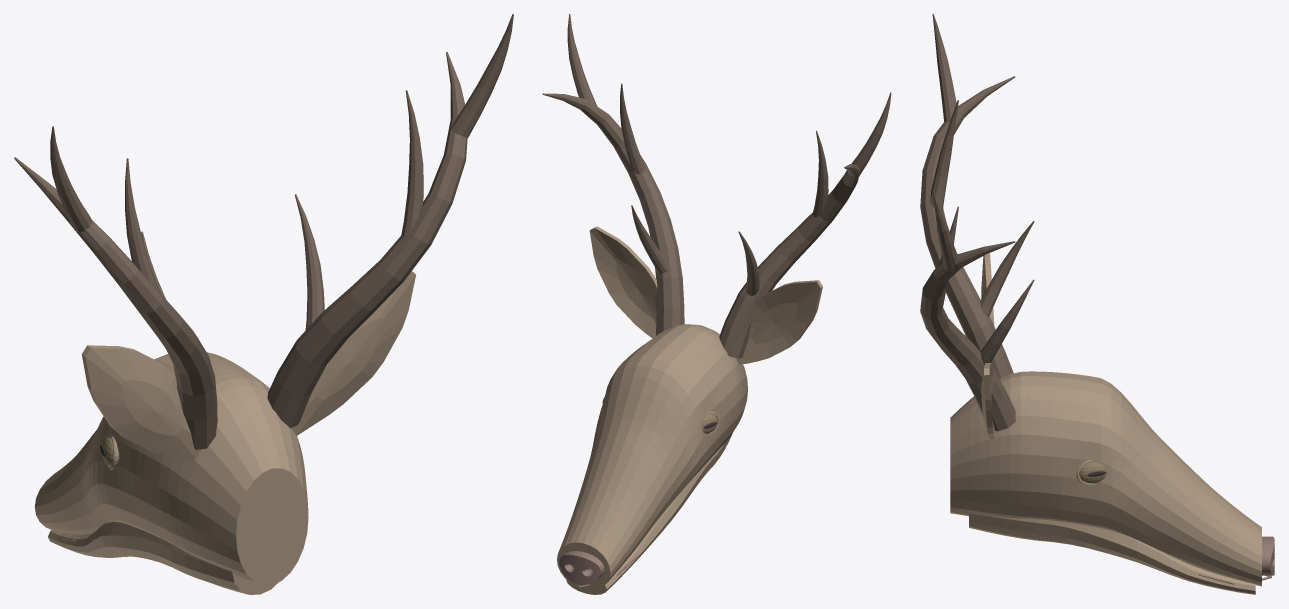
Rendered from stag_head_01.glb.
3 views of the same model, side by side, from view 1: azimuth 30°, elevation 25°; view 2: azimuth 150°, elevation 25°; view 3: azimuth 270°, elevation 25° (orthographic). The views are drawn at different scales.
Parts seen in each view (by area): view 1: CervidCranium, CervidAntlerR, CervidAntlerL, CervidEarL, CervidEarR, CervidJaw; view 2: CervidCranium, CervidAntlerR, CervidAntlerL, CervidEarL, CervidEarR, CervidJaw, CervidNose; view 3: CervidCranium, CervidAntlerL, CervidAntlerR, CervidJaw, CervidEarR, CervidNose.
Boxes of the visible parts, x1,y1,x2,y2 form: CervidCranium: [34, 352, 308, 585]; CervidAntlerR: [267, 14, 513, 428]; CervidAntlerL: [14, 126, 217, 449]; CervidEarL: [81, 345, 200, 459]; CervidEarR: [291, 271, 416, 435]; CervidJaw: [48, 522, 278, 594]; CervidCranium: [557, 324, 747, 589]; CervidAntlerR: [542, 14, 684, 335]; CervidAntlerL: [719, 92, 891, 358]; CervidEarL: [736, 280, 822, 364]; CervidEarR: [589, 226, 657, 338]; CervidJaw: [566, 433, 732, 594]; CervidNose: [559, 551, 604, 585]; CervidCranium: [950, 371, 1261, 586]; CervidAntlerL: [920, 14, 1034, 378]; CervidAntlerR: [920, 189, 1034, 431]; CervidJaw: [969, 513, 1255, 594]; CervidEarR: [981, 363, 996, 439]; CervidNose: [1262, 536, 1274, 575].
Bounding box in the file's own units: 0.5296 × 0.6838 × 0.45.
